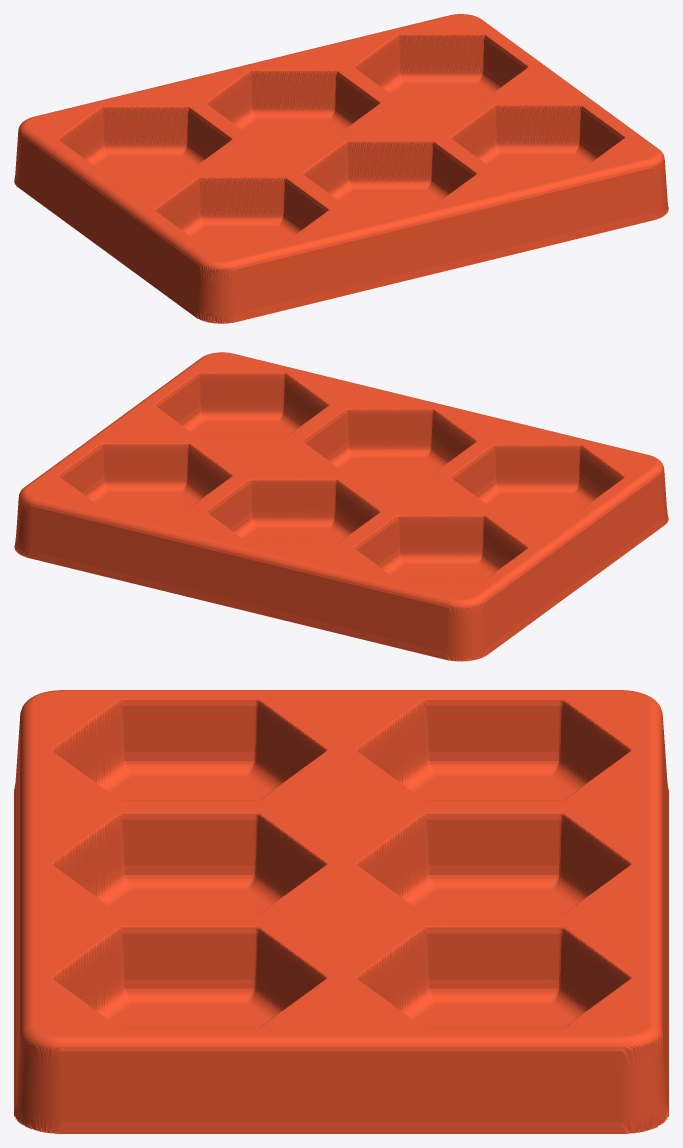
Rendered from mold.glb.
3 renders of one model, top to bottom at view 1: azimuth 30°, elevation 25°; view 2: azimuth 150°, elevation 25°; view 3: azimuth 270°, elevation 25°, orthographic. The views are drawn at different scales.
Visible parts, largest first — view 1: geometry_0; view 2: geometry_0; view 3: geometry_0.
Part boxes in pixels (left/top/right/bottom): geometry_0: left=14, top=14, right=668, bottom=323; geometry_0: left=14, top=352, right=668, bottom=661; geometry_0: left=14, top=690, right=668, bottom=1133.
Bounding box in the file's own units: 0.1594 × 0.0185 × 0.1222.
